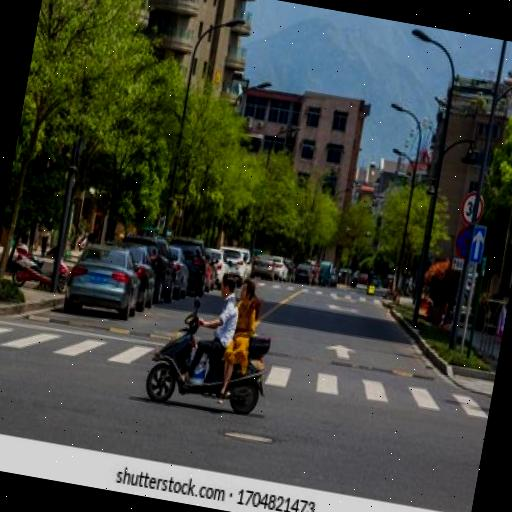no helmet: (134, 258, 246, 400)
